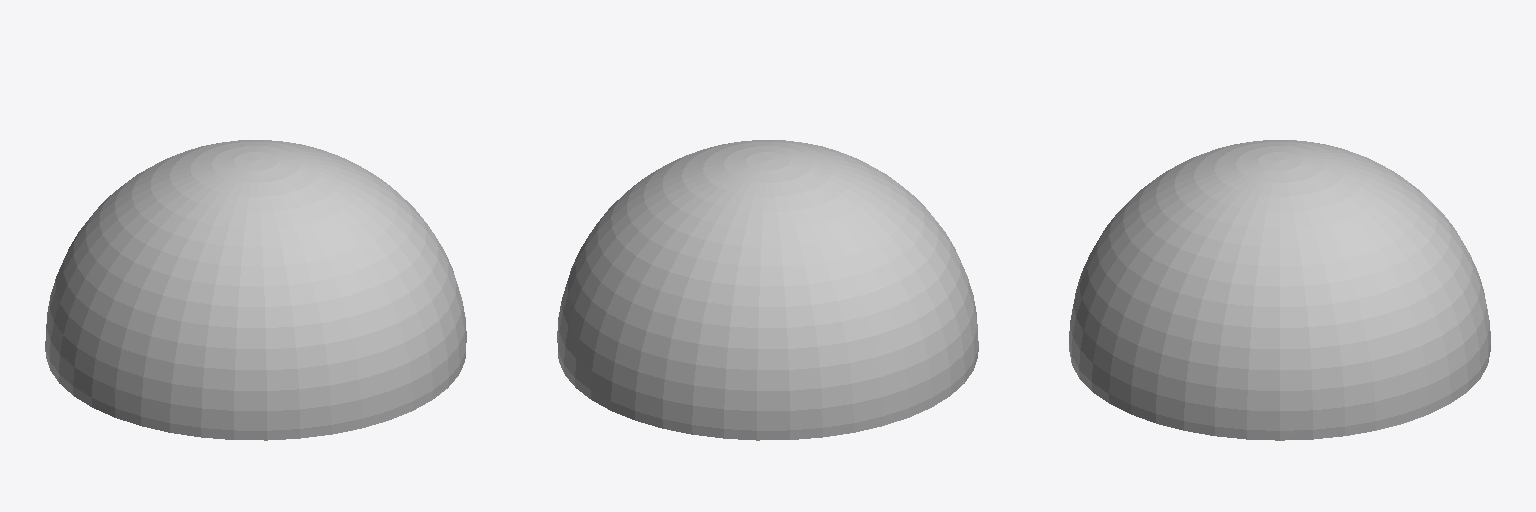
File: halfsphere_6cm.obj
3 renders of one model, left to right at view 1: azimuth 30°, elevation 25°; view 2: azimuth 150°, elevation 25°; view 3: azimuth 270°, elevation 25°, orthographic.
Parts seen in each view (by area): view 1: Sphere_Sphere.001; view 2: Sphere_Sphere.001; view 3: Sphere_Sphere.001.
Boxes of the visible parts, x1,y1,x2,y2 form: Sphere_Sphere.001: [45, 140, 466, 440]; Sphere_Sphere.001: [557, 140, 978, 440]; Sphere_Sphere.001: [1069, 140, 1490, 440].
Bounding box in the file's own units: 0.12 × 0.06 × 0.12.